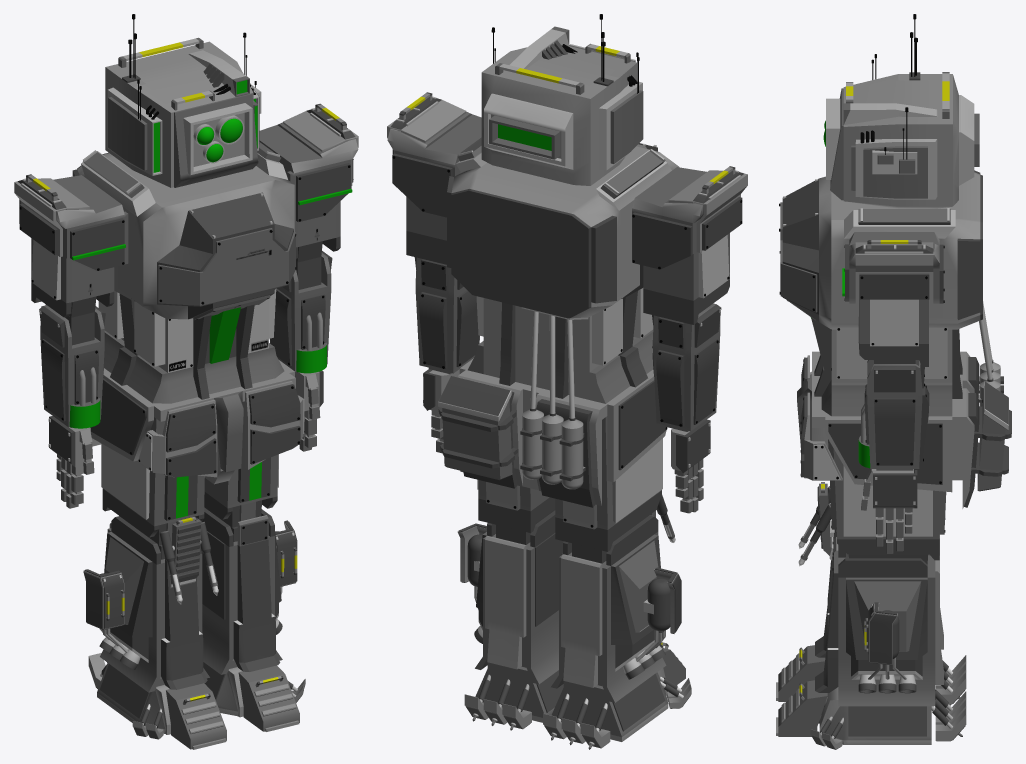
File: Test_Titan_UV.fbx
3 views of the same model, side by side, from view 1: azimuth 30°, elevation 25°; view 2: azimuth 150°, elevation 25°; view 3: azimuth 270°, elevation 25° (orthographic). The views are drawn at different scales.
Parts seen in each view (by area): view 1: pCylinder238; view 2: pCylinder238; view 3: pCylinder238.
Part boxes in pixels (x1,y1,x2,y2): pCylinder238: (14, 14, 358, 749); pCylinder238: (387, 14, 747, 749); pCylinder238: (776, 14, 1011, 749).
Bounding box in the file's own units: 29.2 × 62.42 × 19.71.
Materials: 10 (1 with a texture image).
